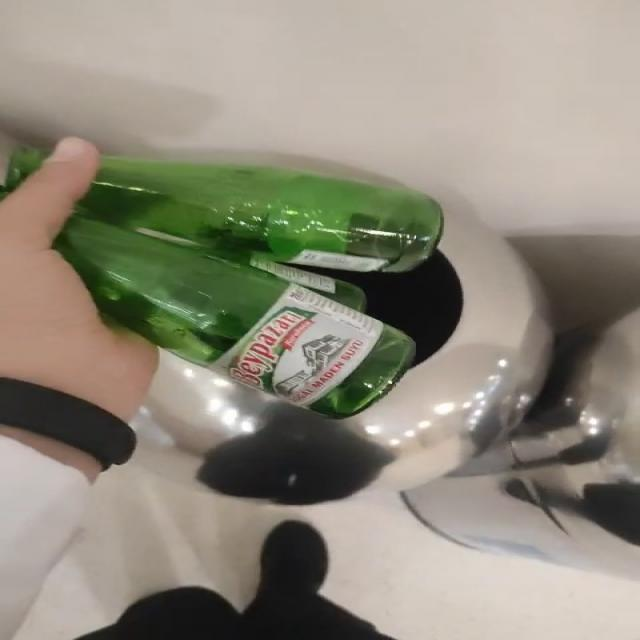glass: (56, 157, 444, 418)
